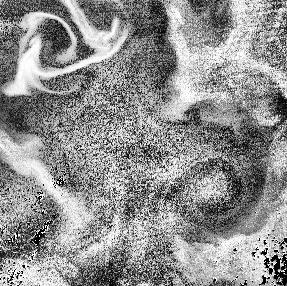AE: (160, 154, 249, 229), (21, 11, 79, 77)
